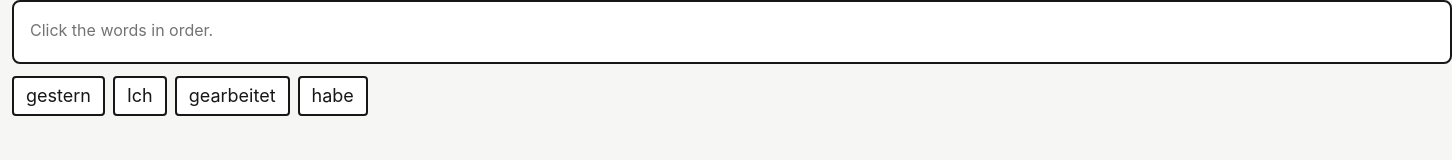
Test: surgery: tapping chips builds the answer, tapping a placed chip removes it
The width and height of the screenshot is (1452, 160).
Click the button "Ich". click: (140, 96)
box: x1=113 y1=76 x2=167 y2=116
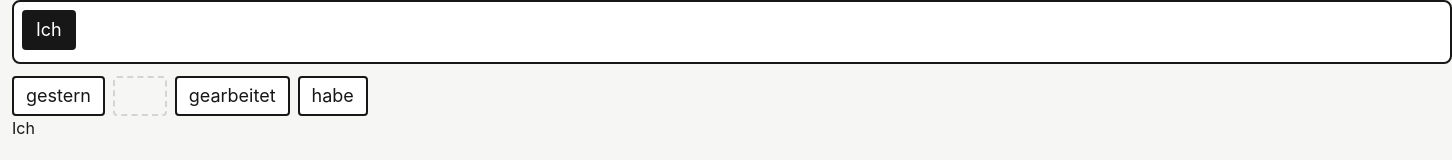
Click the button "habe". click: (333, 96)
box: x1=298 y1=76 x2=368 y2=116
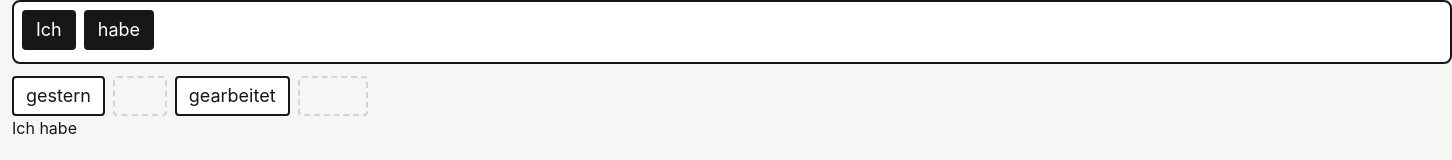
Click the button "gestern". click: (58, 96)
box: x1=12 y1=76 x2=105 y2=116
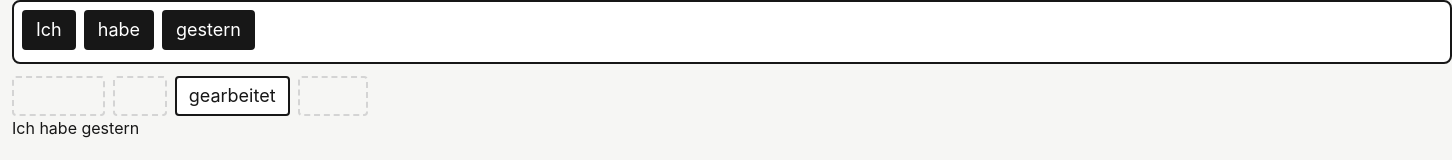
Click the button "gearbeitet". click: (232, 96)
box: x1=175 y1=76 x2=290 y2=116
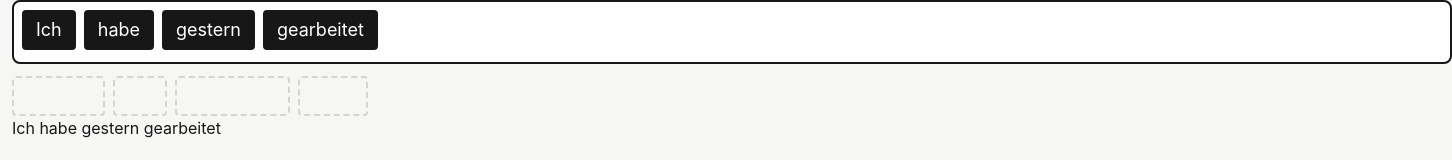
Expected: the text with test id "answer" reads "Ich habe gestern gearbeitet", x1=12 y1=118 x2=221 y2=138
Click the button with aria-label "Remove habe". click: (119, 30)
box: x1=84 y1=10 x2=154 y2=50
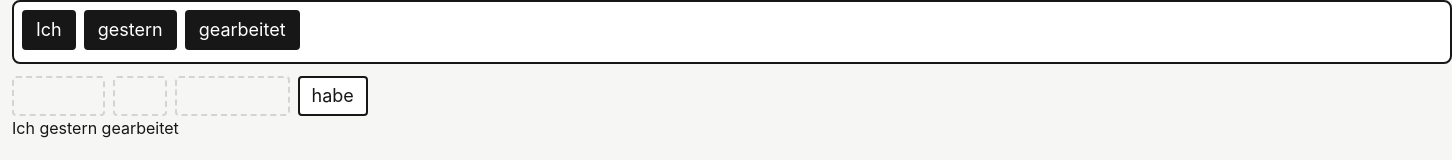
Expected: the text with test id "answer" reads "Ich gestern gearbeitet", x1=12 y1=118 x2=179 y2=138
Click the button "habe". click: (333, 96)
box: x1=298 y1=76 x2=368 y2=116
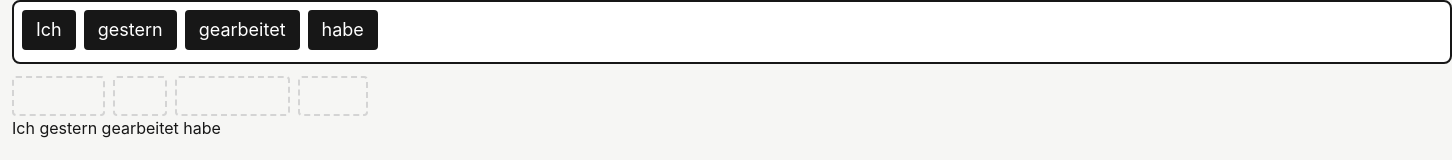
Expected: the text with test id "answer" reads "Ich gestern gearbeitet habe", x1=12 y1=118 x2=221 y2=138
